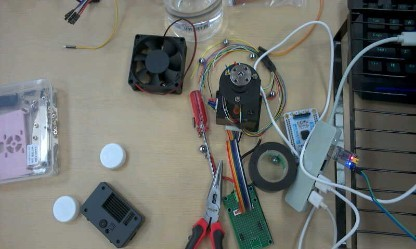ironball: (270, 156, 279, 163), (199, 145, 205, 152), (222, 38, 228, 45), (198, 57, 205, 63), (269, 90, 275, 96), (249, 53, 255, 58), (161, 82, 166, 86)
